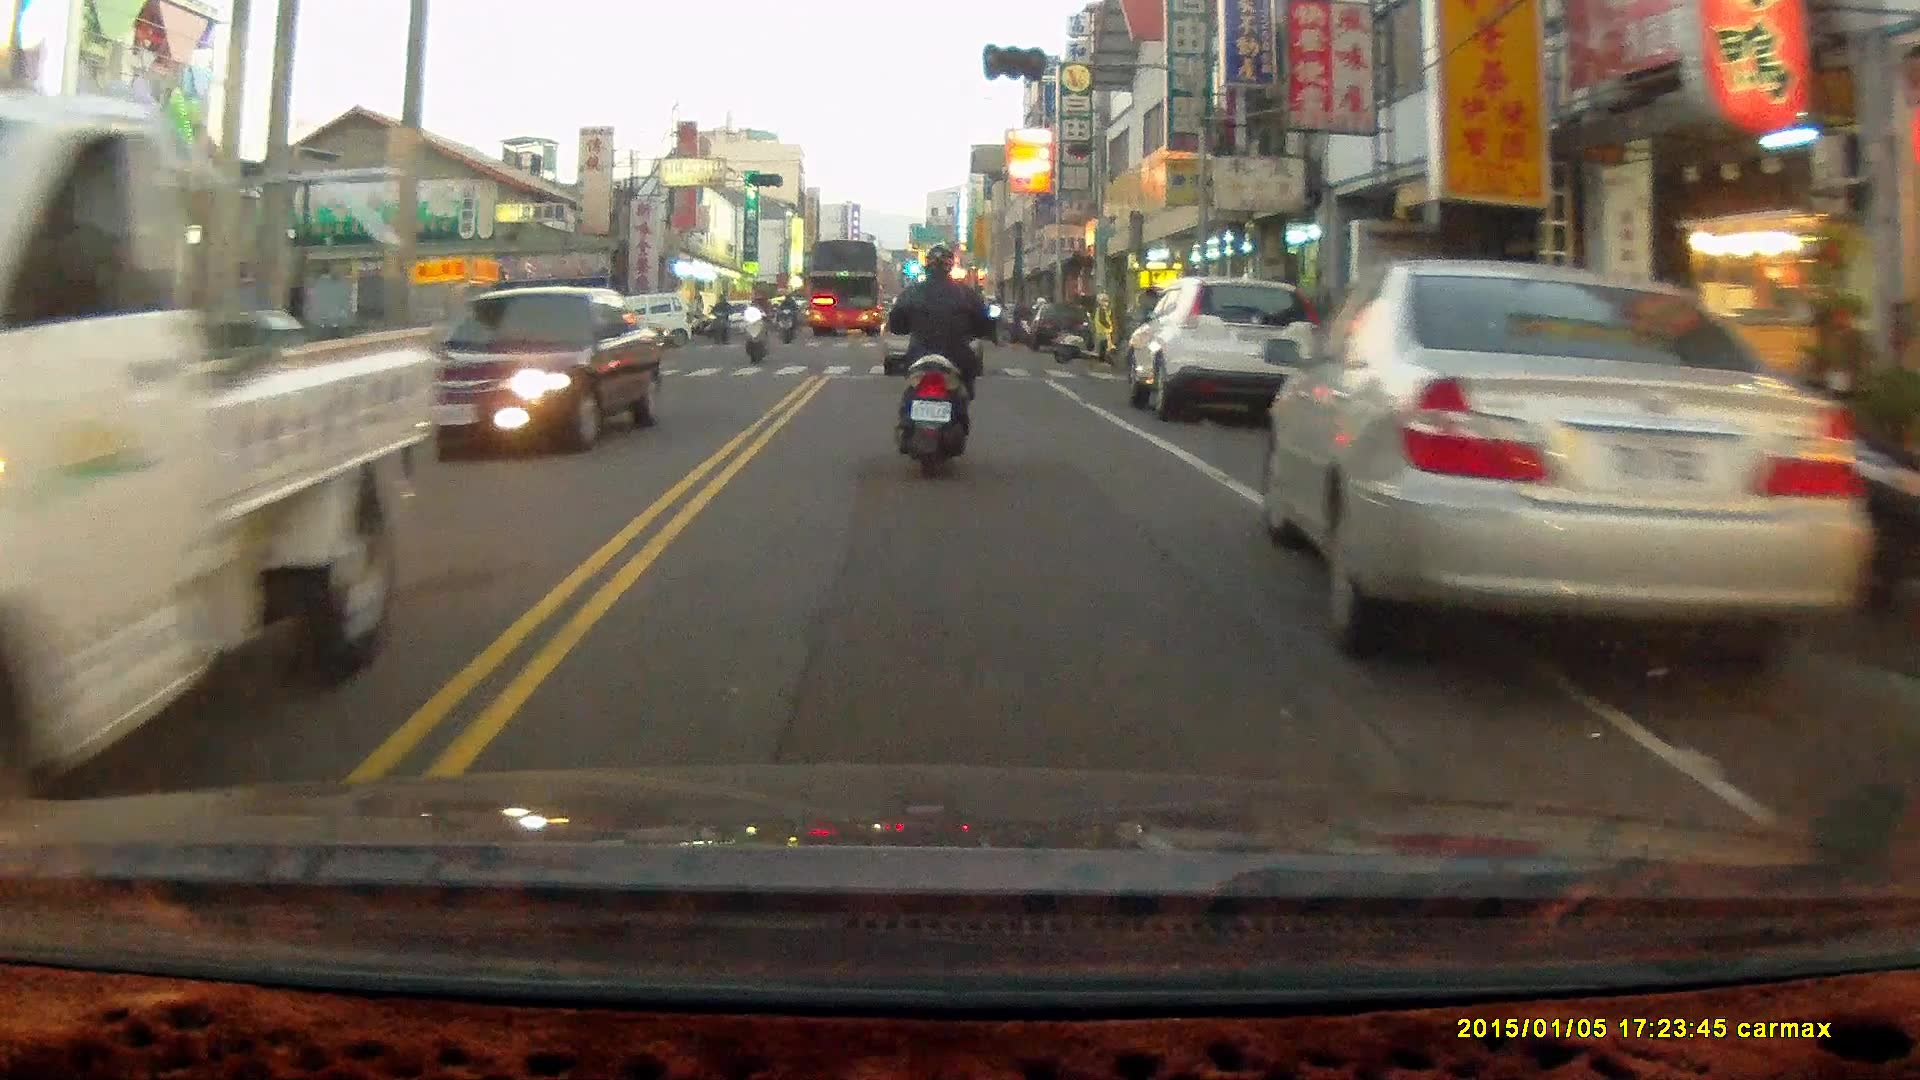pedestrian: (1090, 289, 1115, 367)
rider: (881, 242, 1001, 479), (740, 284, 771, 362), (777, 289, 797, 348), (709, 290, 731, 345)
vehicle: (1, 90, 444, 802), (1261, 259, 1890, 668), (378, 285, 673, 465), (1130, 276, 1306, 419), (803, 243, 888, 339)
